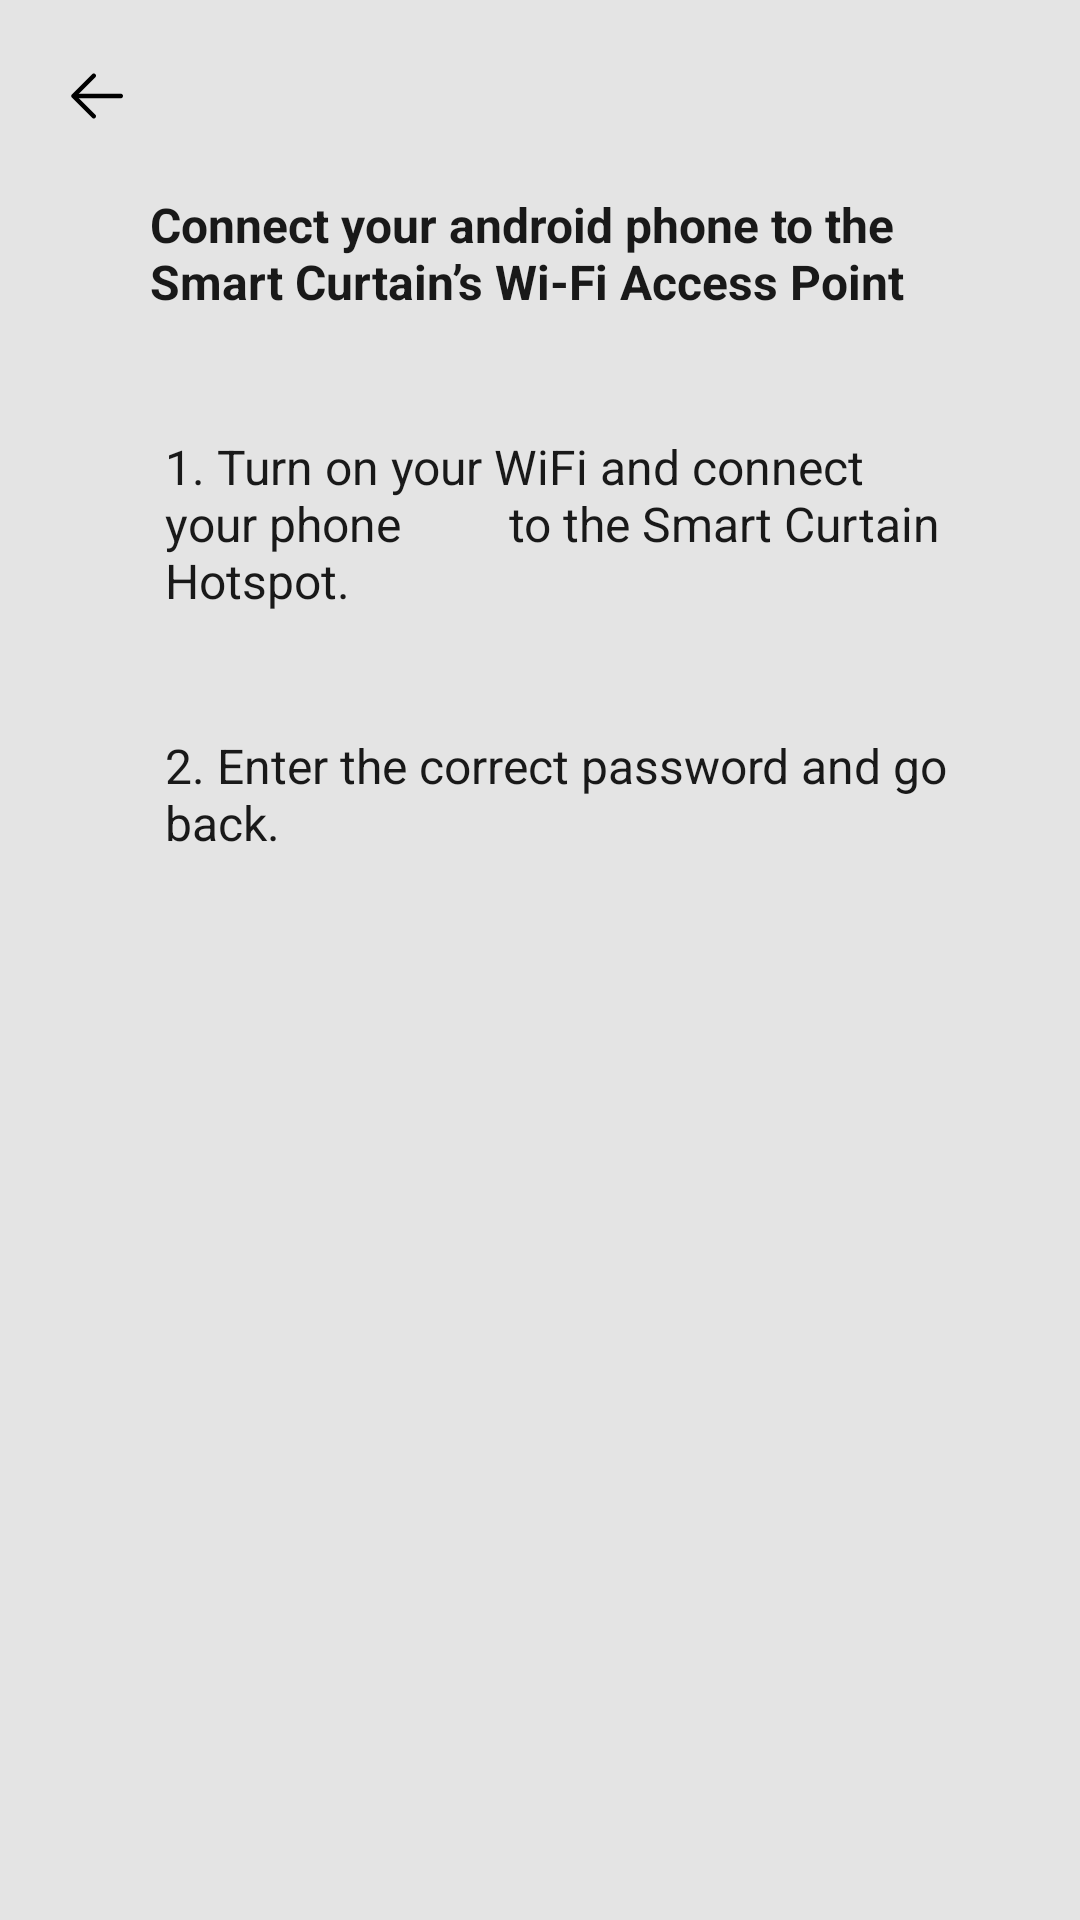

Screen size 1080w x 1920h. Icon name, then its box in pixels as (x1, y1, x2, y2):
back: (71, 73, 123, 119)
